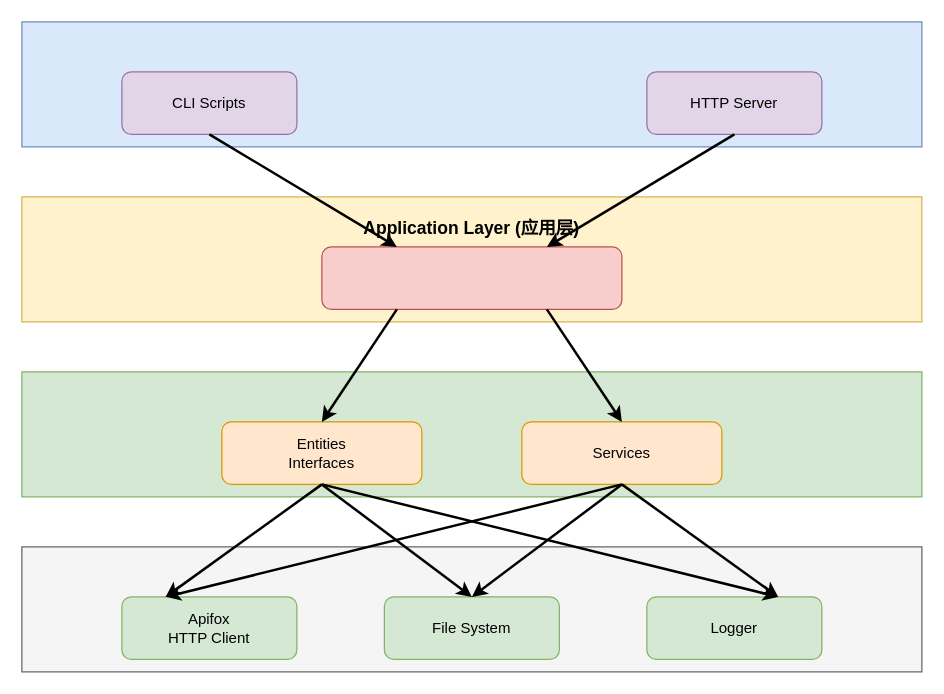
The diagram is 944 pixels wide and 694 high, and some of its shapes have lost their labels. Here are the shapes that lost their labels. From the top down, the box of each, then its label:
(21, 21, 922, 147): Presentation Layer (表现层)
(321, 246, 622, 309): Use Cases (用例)
(21, 371, 922, 497): Business Layer (业务层)
(21, 546, 922, 672): Infrastructure Layer (基础设施层)
